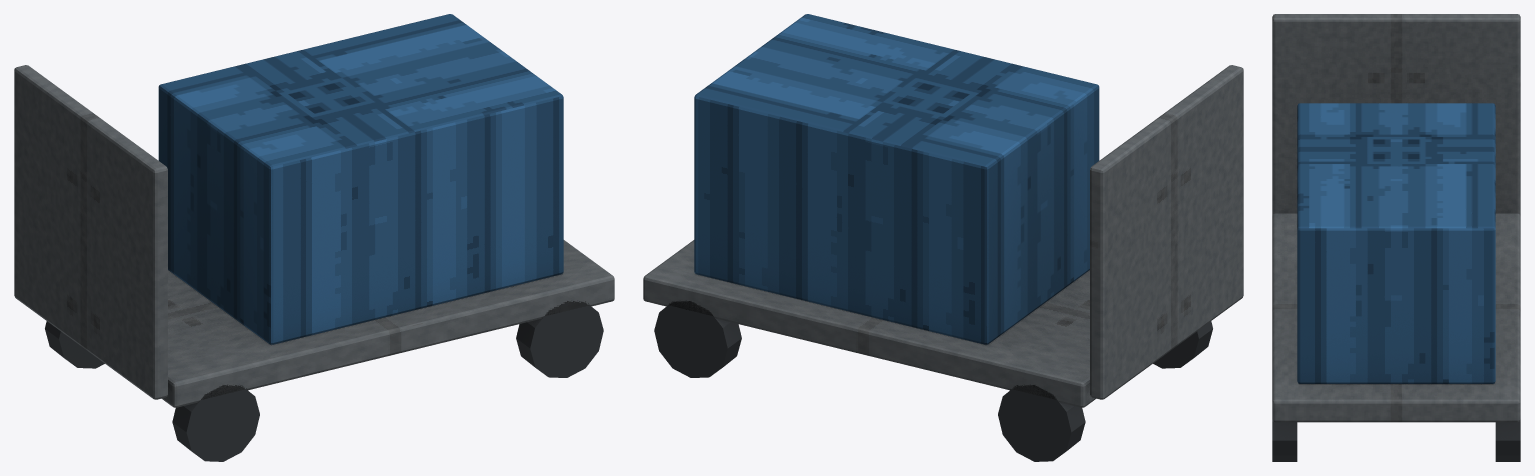
Rendered from base_cargo_cart.glb.
3 renders of one model, left to right at view 1: azimuth 30°, elevation 25°; view 2: azimuth 150°, elevation 25°; view 3: azimuth 270°, elevation 25°, orthographic. The views are drawn at different scales.
Parts seen in each view (by area): view 1: base_cargo_cart.001; view 2: base_cargo_cart.001; view 3: base_cargo_cart.001.
Part boxes in pixels (x1,y1,x2,y2): base_cargo_cart.001: (14, 14, 614, 461); base_cargo_cart.001: (643, 14, 1243, 461); base_cargo_cart.001: (1272, 14, 1520, 461).
Bounding box in the file's own units: 1.88 × 1.2 × 1.
3 materials, 3 textured.
